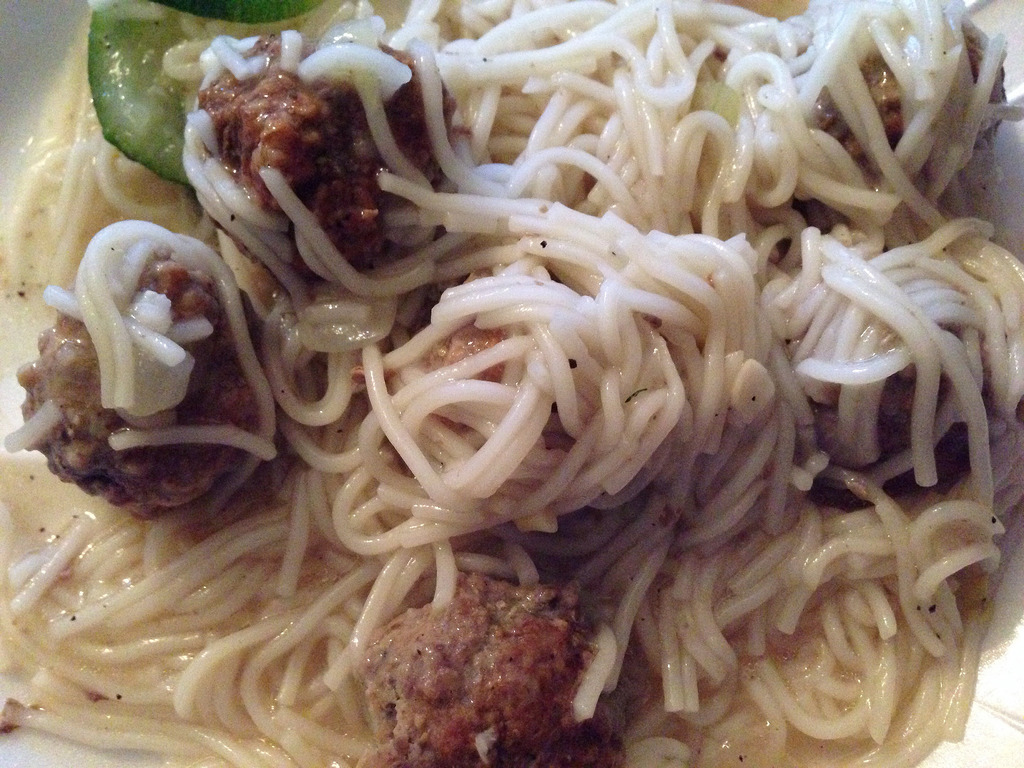meatballs: (38, 242, 269, 500), (217, 47, 462, 263), (383, 580, 614, 768)
plain spaghetti: (469, 35, 931, 475)
